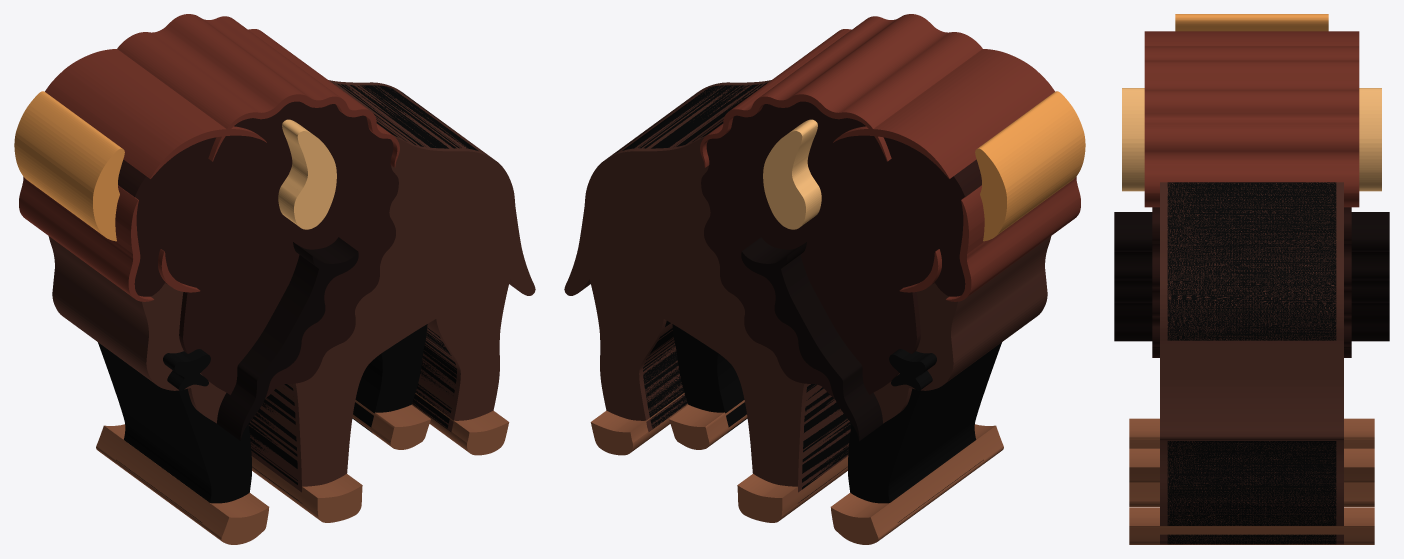
The picture shows the model from 3 angles, left to right: view 1: azimuth 30°, elevation 25°; view 2: azimuth 150°, elevation 25°; view 3: azimuth 270°, elevation 25°; orthographic projection. The views are drawn at different scales.
Parts seen in each view (by area): view 1: U+1F9AC_layer02_obj00, U+1F9AC_layer03_obj00, U+1F9AC_layer01_obj00, U+1F9AC_layer04_obj01, U+1F9AC_layer03_obj01, U+1F9AC_layer04_obj02, U+1F9AC_layer02_obj01, U+1F9AC_layer00_obj00, U+1F9AC_layer08_obj00, U+1F9AC_layer04_obj00, U+1F9AC_layer06_obj02, U+1F9AC_layer07_obj00 (+6 smaller); view 2: U+1F9AC_layer02_obj00, U+1F9AC_layer03_obj00, U+1F9AC_layer01_obj00, U+1F9AC_layer04_obj01, U+1F9AC_layer03_obj01, U+1F9AC_layer04_obj02, U+1F9AC_layer02_obj01, U+1F9AC_layer00_obj00, U+1F9AC_layer08_obj00, U+1F9AC_layer04_obj00, U+1F9AC_layer06_obj02, U+1F9AC_layer07_obj00 (+6 smaller); view 3: U+1F9AC_layer01_obj00, U+1F9AC_layer04_obj01, U+1F9AC_layer02_obj00, U+1F9AC_layer02_obj02, U+1F9AC_layer08_obj00, U+1F9AC_layer07_obj00, U+1F9AC_layer06_obj01, U+1F9AC_layer04_obj02, U+1F9AC_layer00_obj00, U+1F9AC_layer03_obj00, U+1F9AC_layer06_obj00, U+1F9AC_layer06_obj02 (+1 smaller).
Boxes of the visible parts, box(x1,y1,x2,y2) form: U+1F9AC_layer02_obj00: box(248, 80, 515, 503); U+1F9AC_layer03_obj00: box(179, 101, 398, 397); U+1F9AC_layer01_obj00: box(98, 83, 478, 522); U+1F9AC_layer04_obj01: box(117, 14, 399, 167); U+1F9AC_layer03_obj01: box(118, 135, 290, 296); U+1F9AC_layer04_obj02: box(45, 49, 266, 178); U+1F9AC_layer02_obj01: box(48, 236, 226, 423); U+1F9AC_layer00_obj00: box(14, 91, 124, 241); U+1F9AC_layer08_obj00: box(216, 237, 358, 440); U+1F9AC_layer04_obj00: box(19, 176, 154, 301); U+1F9AC_layer06_obj02: box(96, 424, 269, 544); U+1F9AC_layer07_obj00: box(278, 119, 336, 229); U+1F9AC_layer02_obj00: box(584, 80, 850, 503); U+1F9AC_layer03_obj00: box(701, 101, 920, 397); U+1F9AC_layer01_obj00: box(615, 82, 1001, 522); U+1F9AC_layer04_obj01: box(700, 14, 982, 167); U+1F9AC_layer03_obj01: box(809, 136, 981, 296); U+1F9AC_layer04_obj02: box(833, 49, 1054, 178); U+1F9AC_layer02_obj01: box(873, 236, 1051, 423); U+1F9AC_layer00_obj00: box(975, 91, 1085, 241); U+1F9AC_layer08_obj00: box(741, 237, 883, 440); U+1F9AC_layer04_obj00: box(945, 176, 1080, 301); U+1F9AC_layer06_obj02: box(830, 424, 1003, 544); U+1F9AC_layer07_obj00: box(763, 119, 821, 229); U+1F9AC_layer01_obj00: box(1167, 182, 1336, 544); U+1F9AC_layer04_obj01: box(1144, 46, 1359, 207); U+1F9AC_layer02_obj00: box(1160, 182, 1343, 544); U+1F9AC_layer02_obj02: box(1160, 340, 1343, 440); U+1F9AC_layer08_obj00: box(1114, 212, 1389, 341); U+1F9AC_layer07_obj00: box(1122, 88, 1381, 191); U+1F9AC_layer06_obj01: box(1129, 507, 1374, 544); U+1F9AC_layer04_obj02: box(1144, 31, 1359, 46); U+1F9AC_layer00_obj00: box(1175, 14, 1328, 31); U+1F9AC_layer03_obj00: box(1152, 207, 1351, 357); U+1F9AC_layer06_obj00: box(1129, 448, 1374, 482); U+1F9AC_layer06_obj02: box(1129, 418, 1374, 448).
Size of the model in its own units: 0.3204 by 0.3027 by 0.18.
